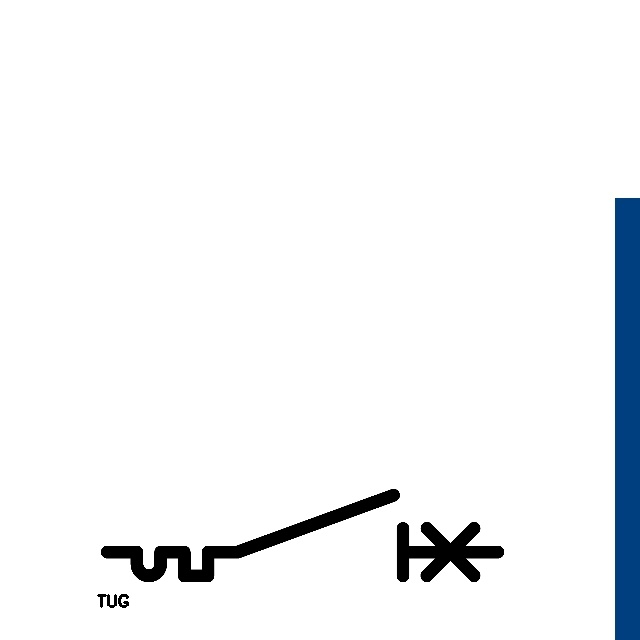interruptor_termomagnetico: (97, 485, 508, 586)
